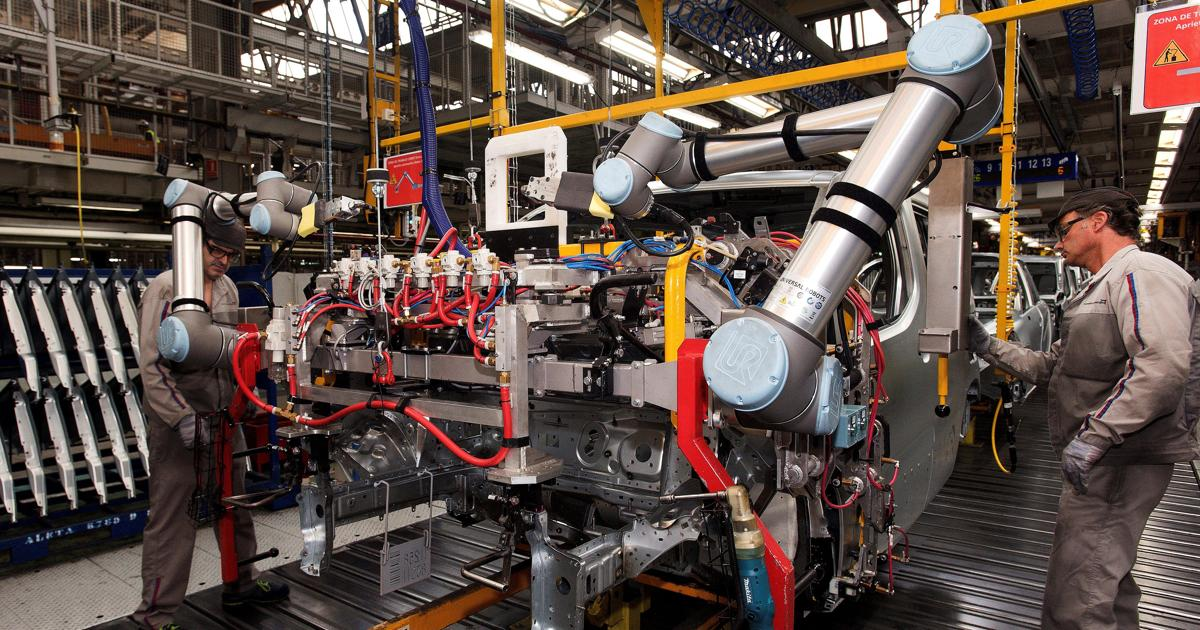person: (971, 188, 1200, 630), (135, 220, 290, 629)
robot: (590, 11, 1012, 451), (156, 171, 371, 371)
